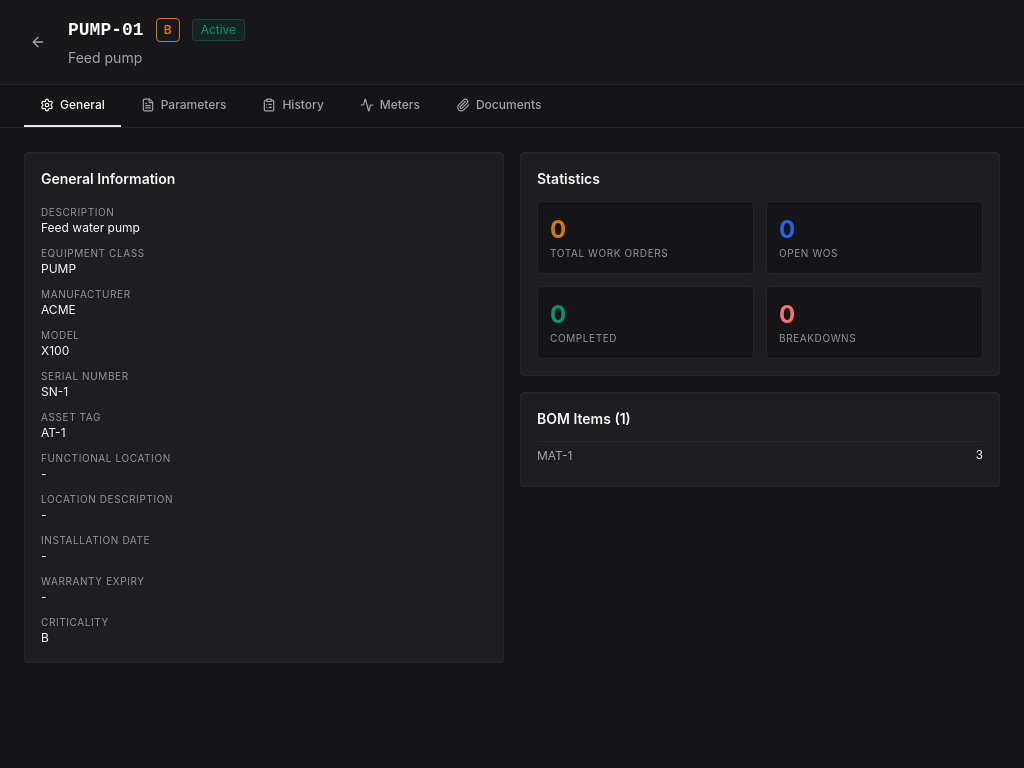
Test: EquipmentDetailPage meter readings (G7) › hides the Add reading control from a View-Only user
Click the button "Meters".
click(390, 106)  # box [344,85,436,127]
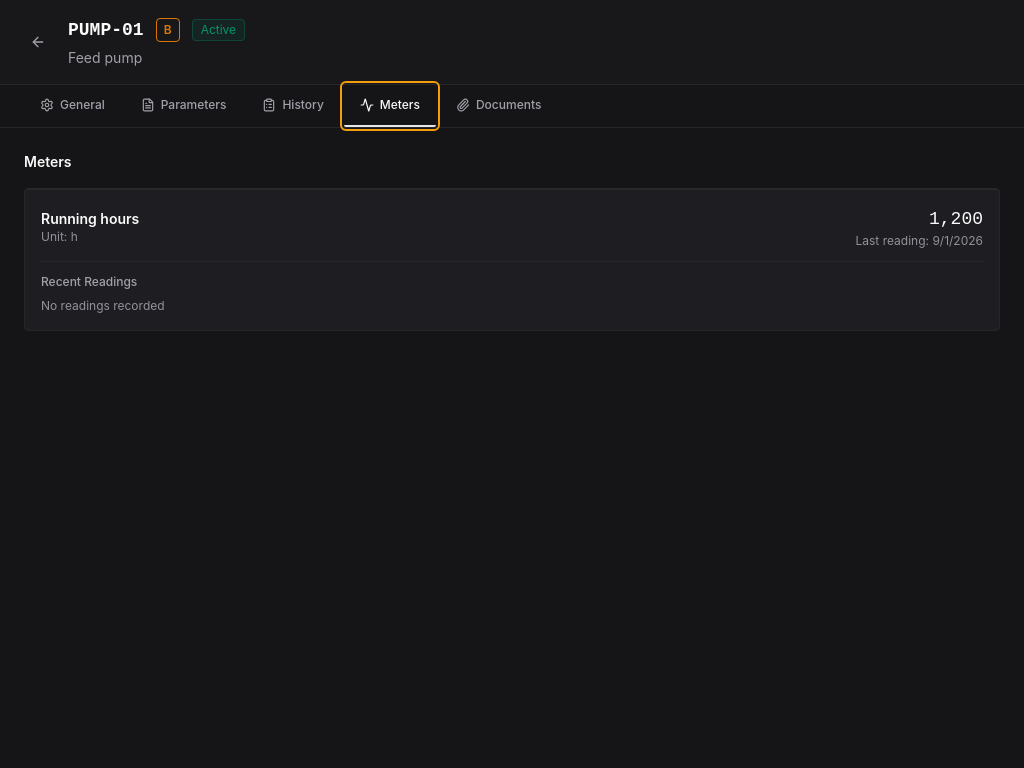
expect the heading "Running hours" is shown: met, box [41,209,139,229]
